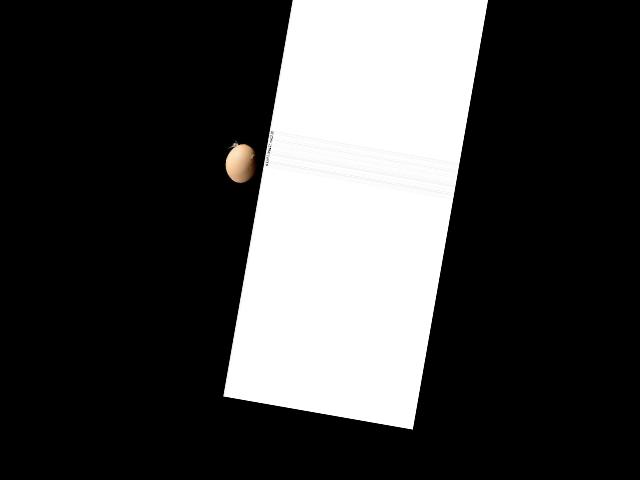egg: (223, 142, 260, 185)
